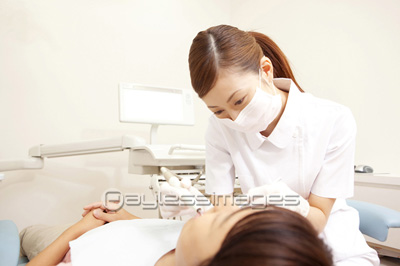mask: (217, 90, 281, 136)
